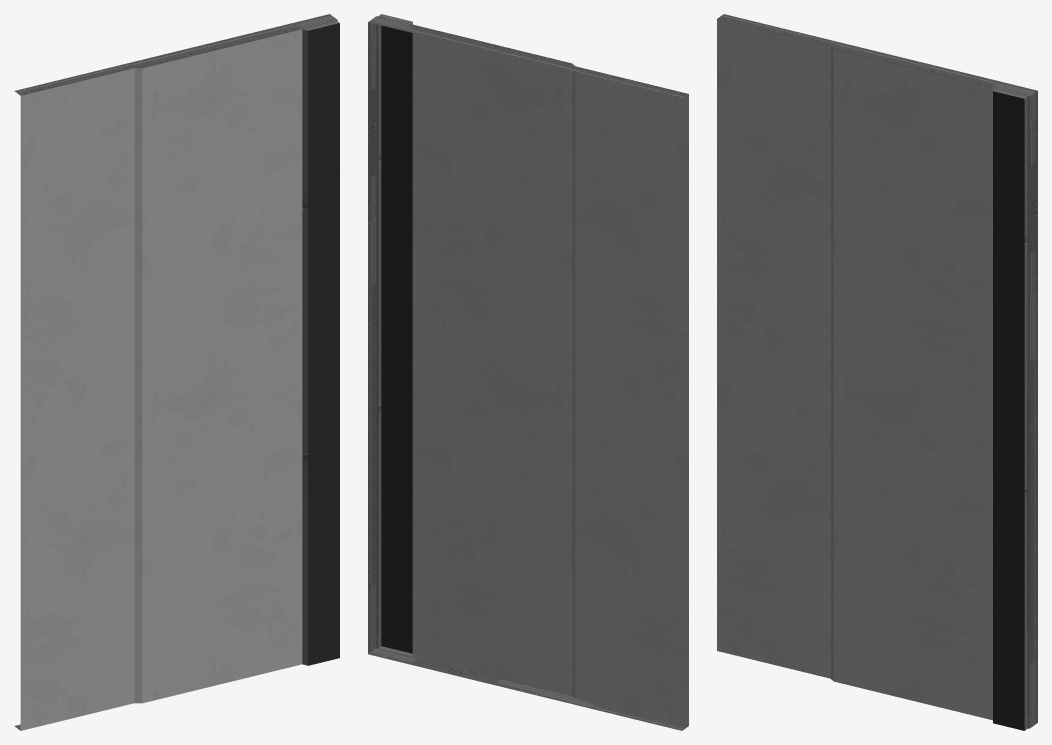
File: door_simple.glb
The picture shows the model from 3 angles, left to right: view 1: azimuth 30°, elevation 25°; view 2: azimuth 150°, elevation 25°; view 3: azimuth 330°, elevation 25°; orthographic projection.
Visible parts, largest first — view 1: Door_Simple; view 2: Door_Simple; view 3: Door_Simple.
Boxes of the visible parts, x1,y1,x2,y2 form: Door_Simple: (14,14,339,730); Door_Simple: (368,14,688,730); Door_Simple: (717,14,1037,730).
Bounding box in the file's own units: 2.11 × 4.05 × 0.1363.
3 materials, 3 textured.
